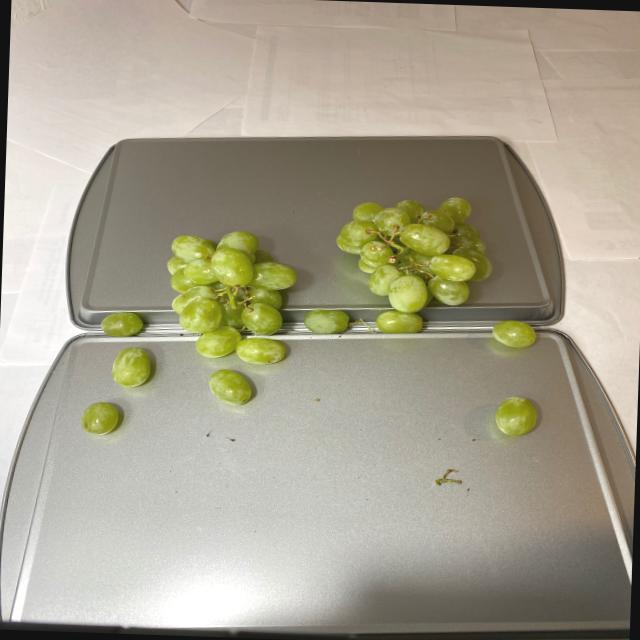grapes: (88, 184, 538, 450)
